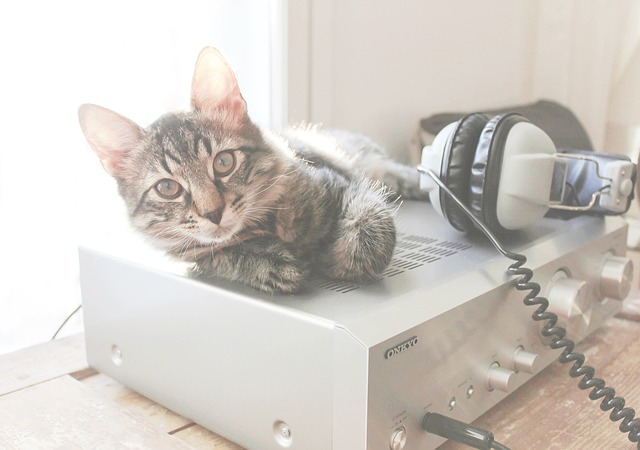headphones: (418, 115, 638, 235)
